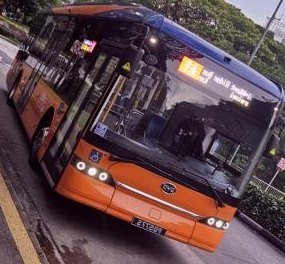bus: (177, 56, 201, 81)
